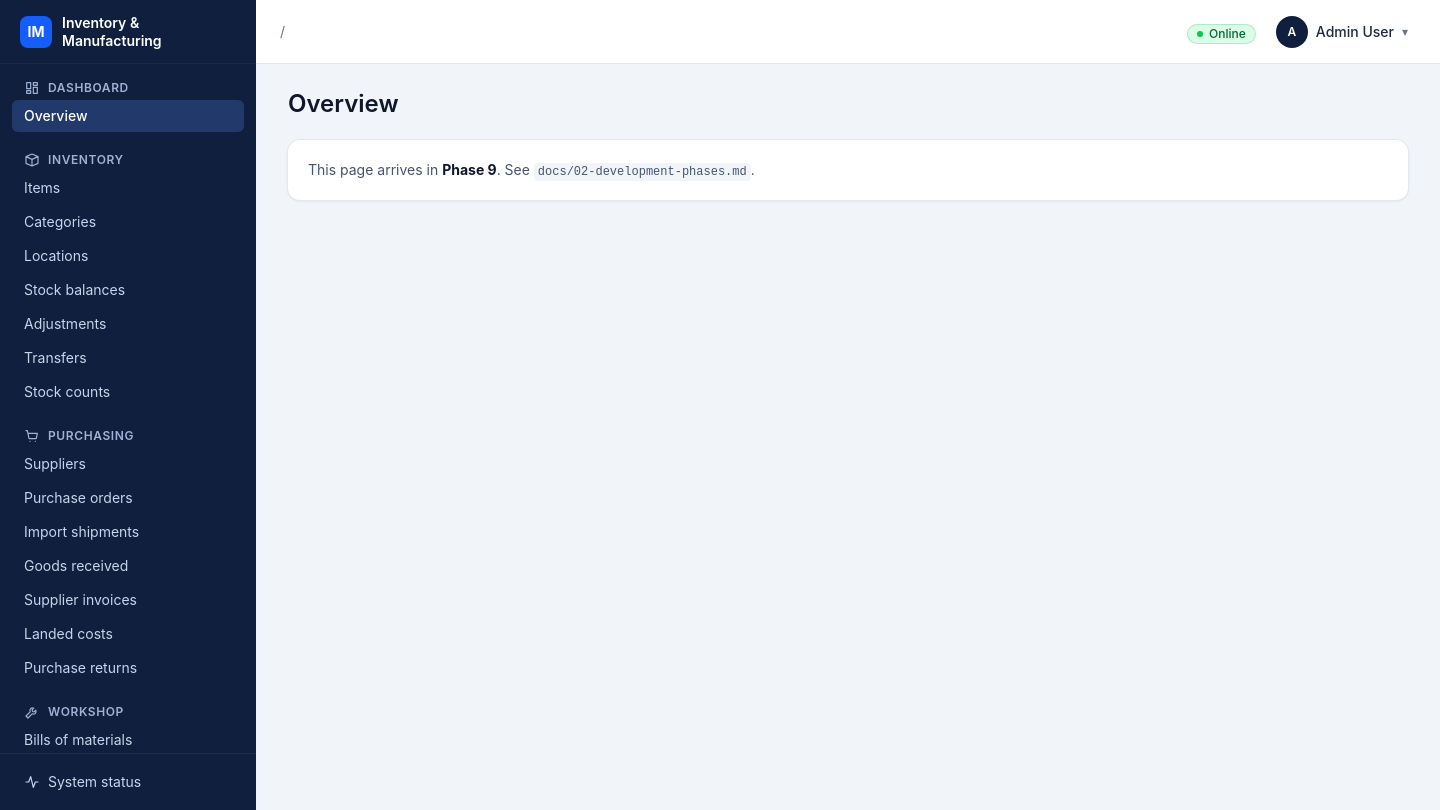
it: AppLayout › navigates when a menu link is clicked
The image size is (1440, 810).
What coordinates should you click on to do the following:
click the link "Stock balances"
I would click on:
 (75, 290)
Its box is left=24, top=281, right=125, bottom=298.
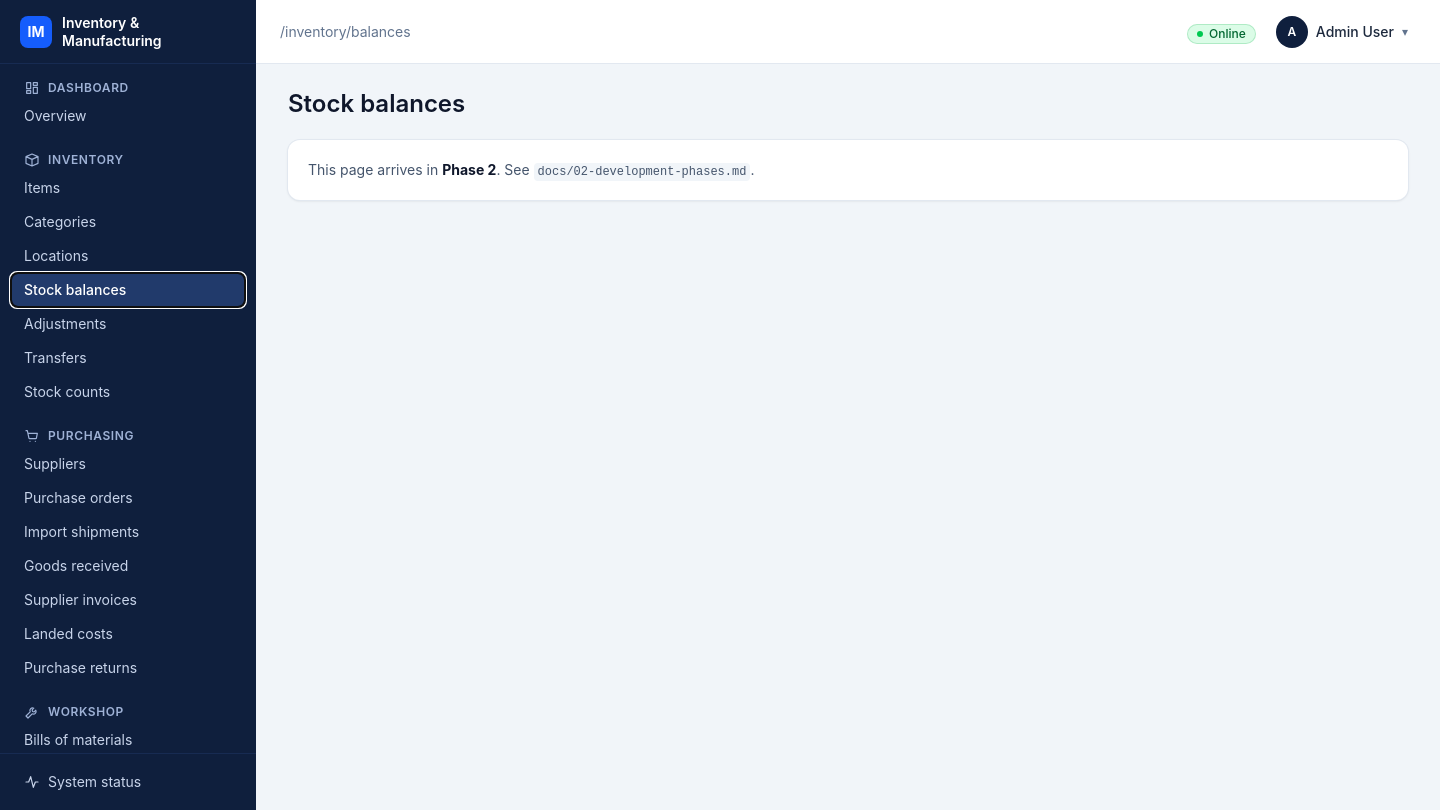
Now the heading "Stock balances" is shown, box left=288, top=89, right=465, bottom=118
